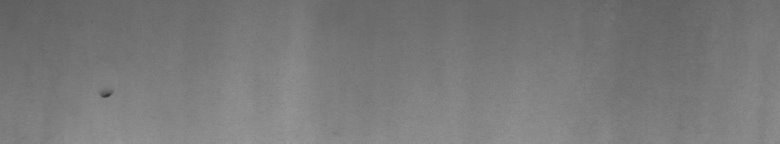fi: (99, 84, 114, 104)
